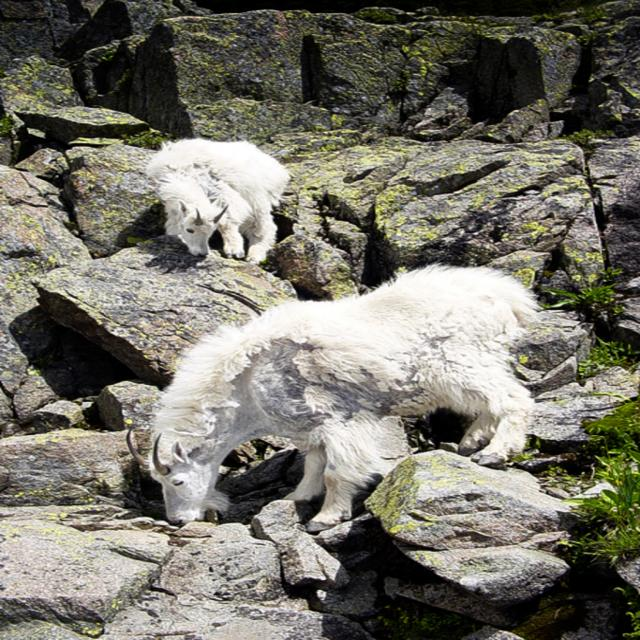Goat: (129, 265, 539, 532), (138, 136, 303, 266)
